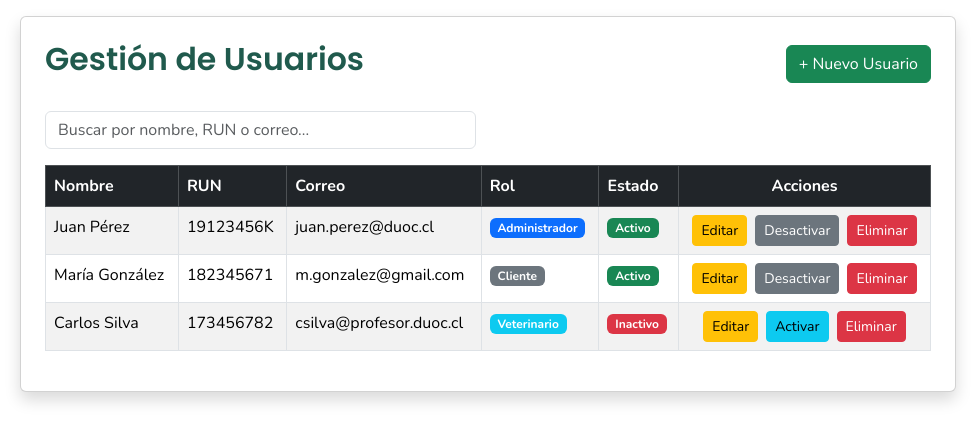
Test case: UsuariosAdmin Component › muestra un mensaje cuando la búsqueda no coincide con ningún usuario
In the field with placeholder "Buscar por nombre, RUN o correo...": (260, 130) x1=45 y1=111 x2=476 y2=149, type "UsuarioInexistente"
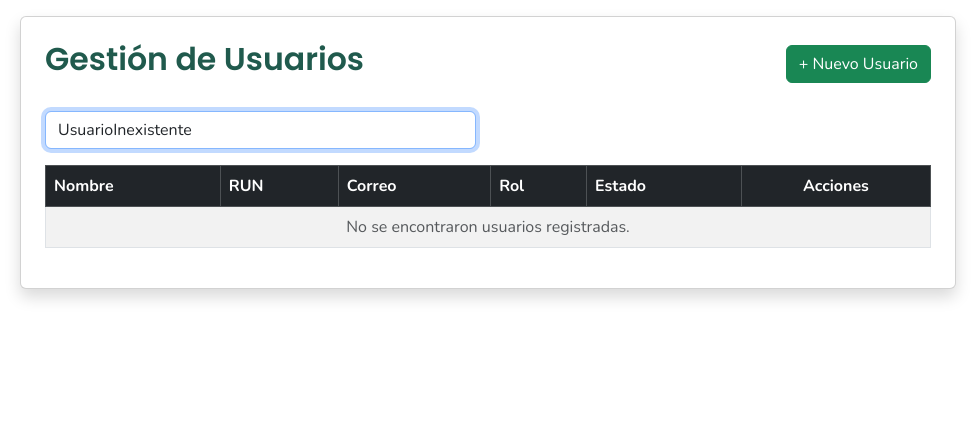
Result: the text "No se encontraron usuarios registradas." is shown at x1=46 y1=206 x2=930 y2=247
